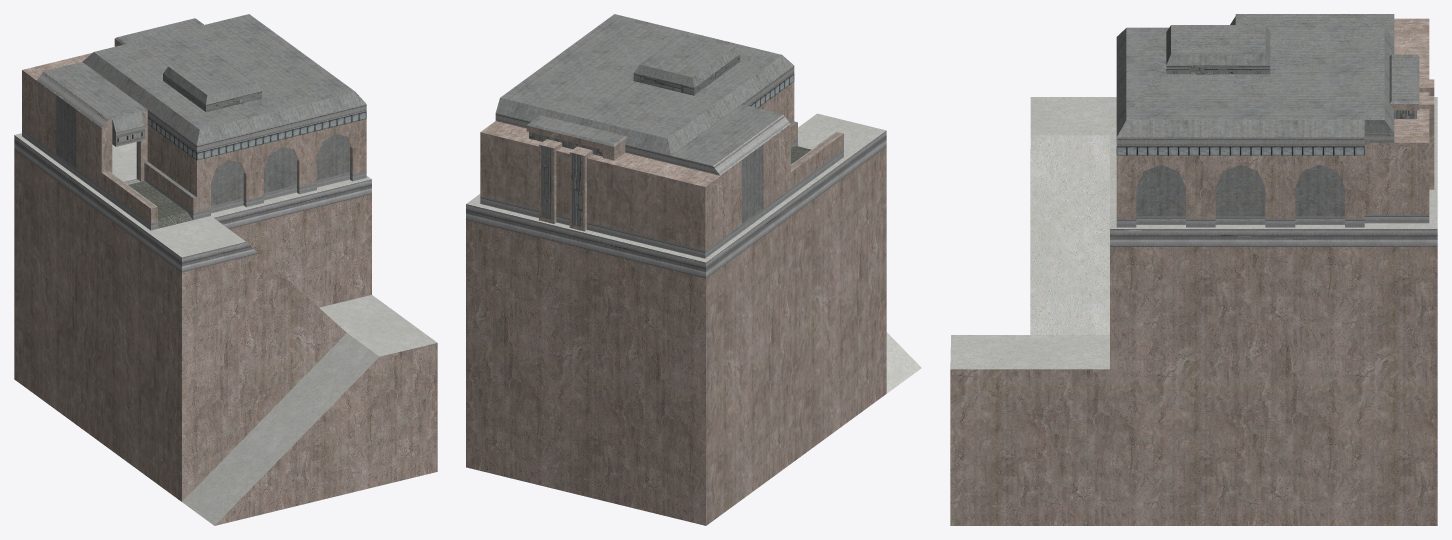
File: ply_corl_house_sm_s01_fp1_r0_exterior_mesh_l1.fbx
3 renders of one model, left to right at view 1: azimuth 30°, elevation 25°; view 2: azimuth 150°, elevation 25°; view 3: azimuth 270°, elevation 25°, orthographic. The views are drawn at different scales.
Visible parts, largest first — view 1: mesh_node; view 2: mesh_node; view 3: mesh_node.
Boxes of the visible parts, x1,y1,x2,y2 form: mesh_node: (14, 14, 437, 525); mesh_node: (466, 14, 921, 525); mesh_node: (950, 14, 1437, 525).
Bounding box in the file's own units: 15.74 × 23.24 × 24.55.
